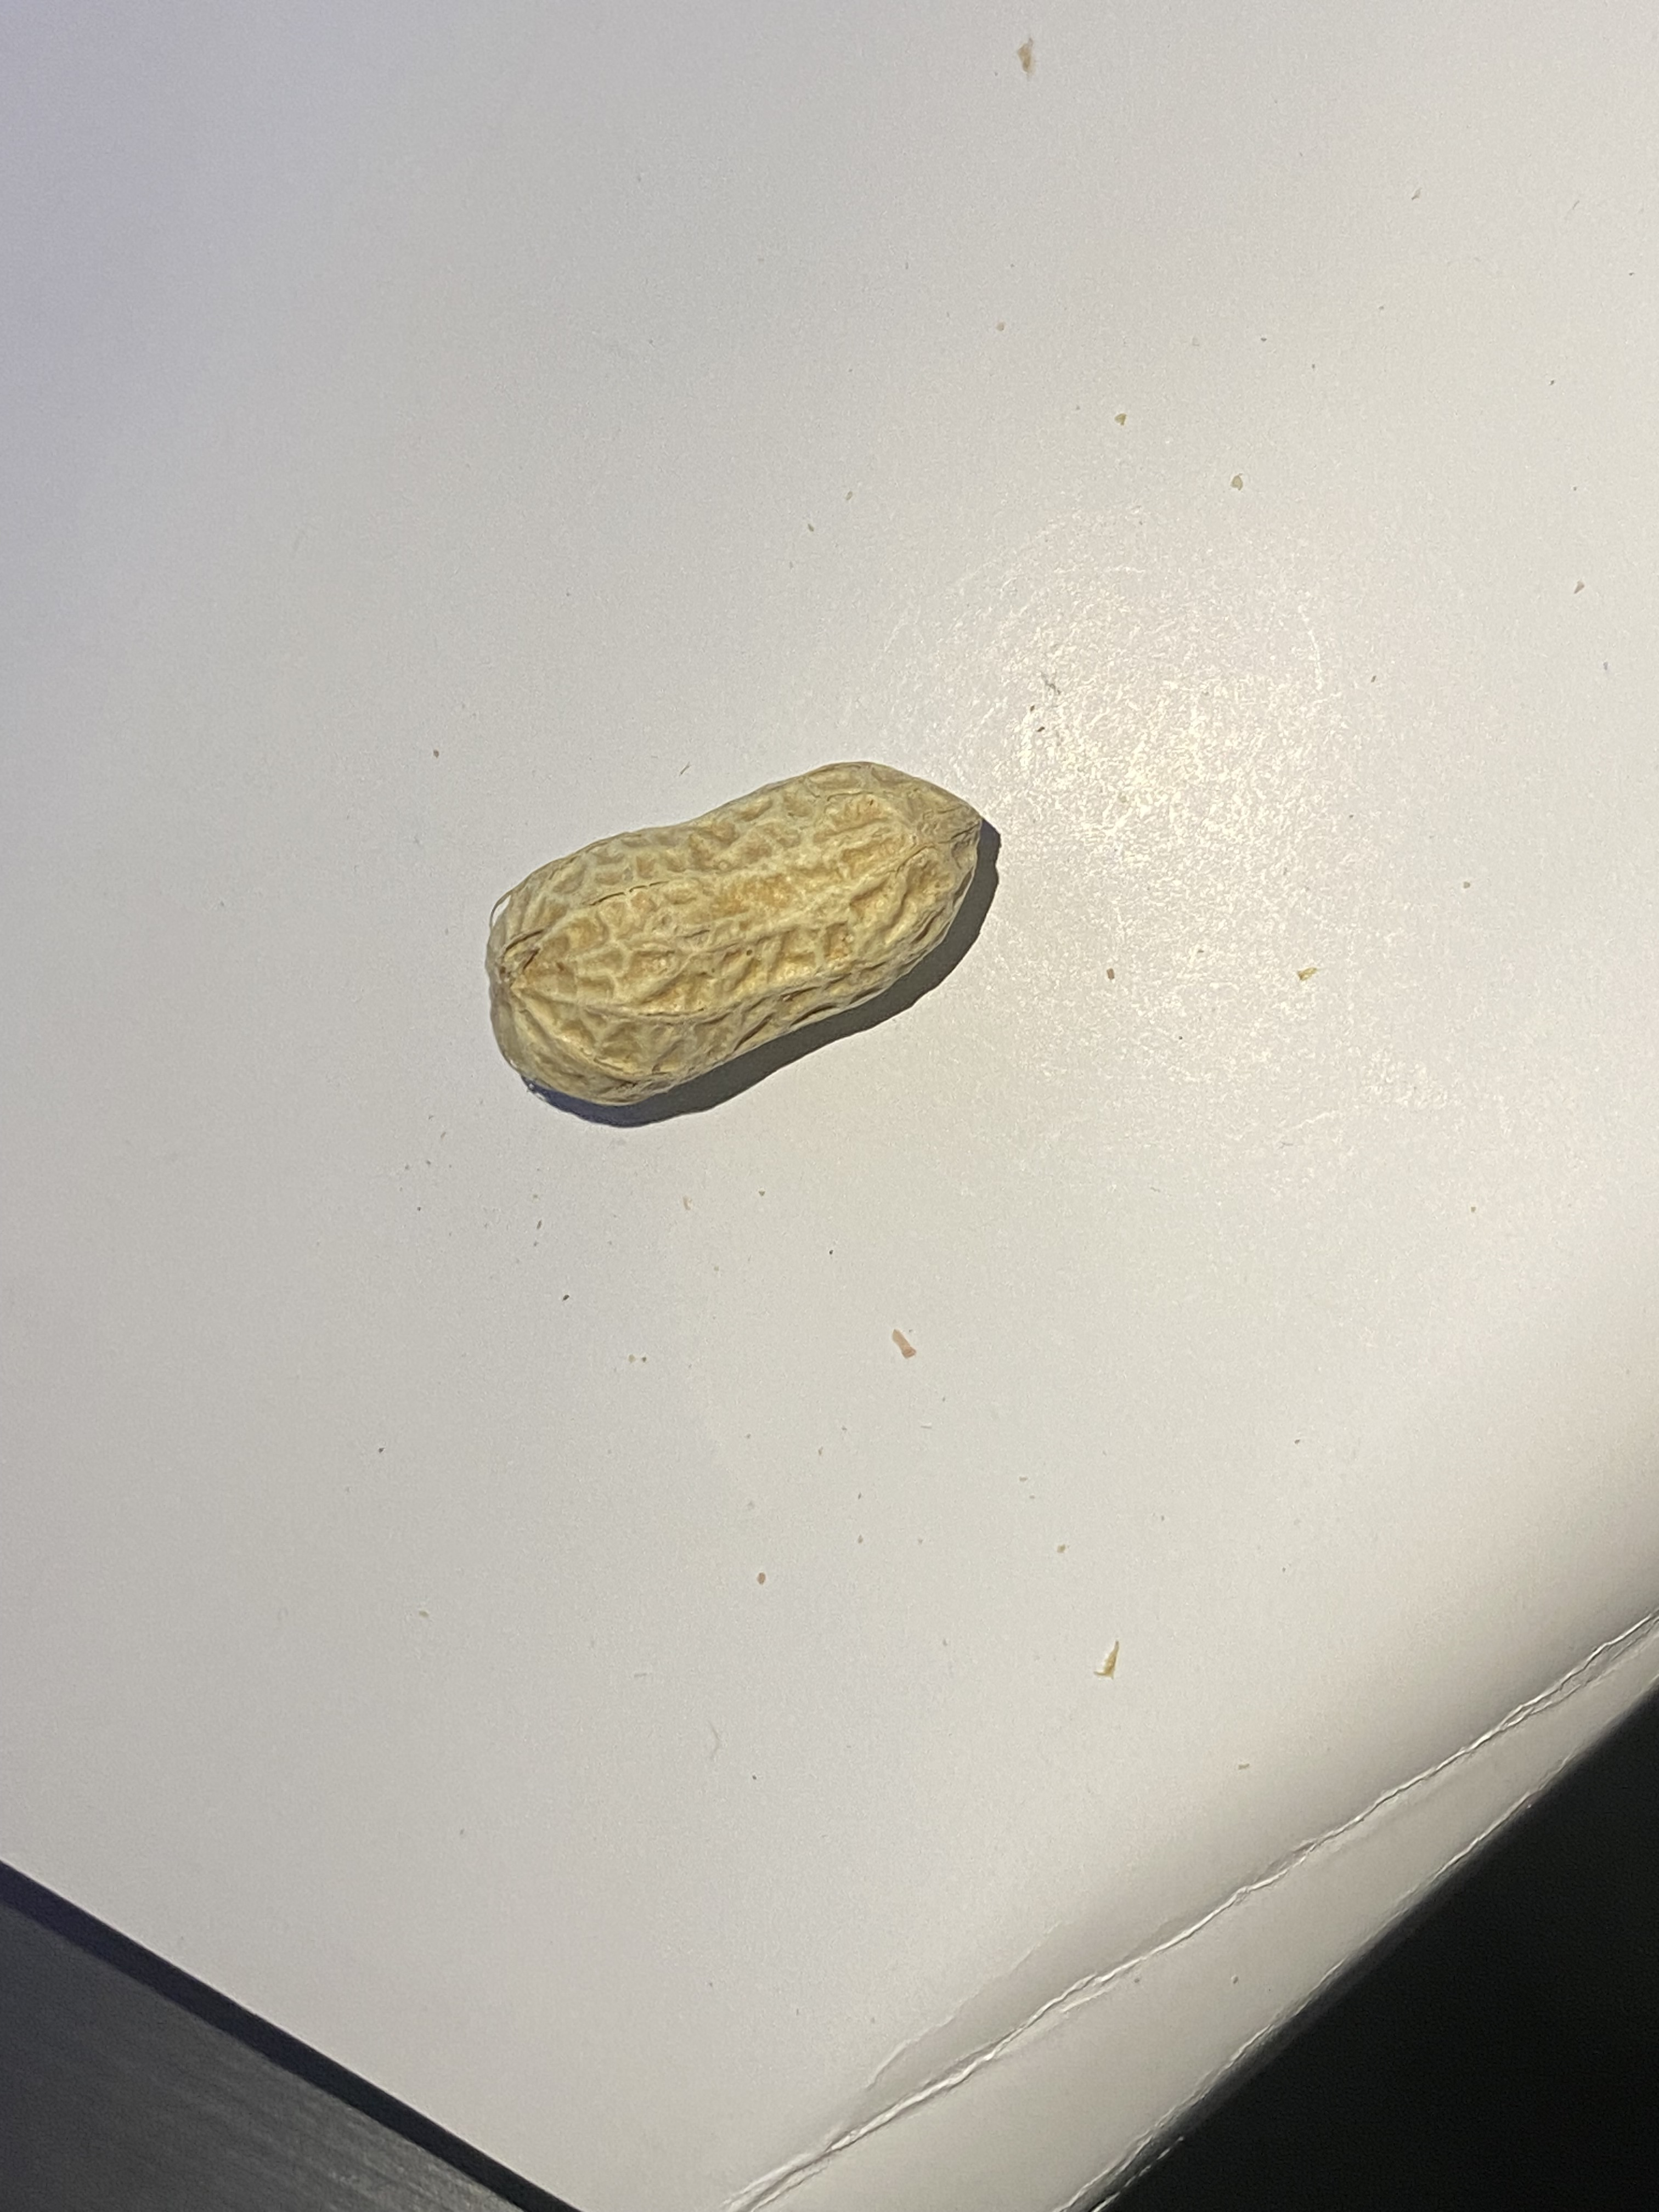kacang2: (474, 709, 1026, 1123)
